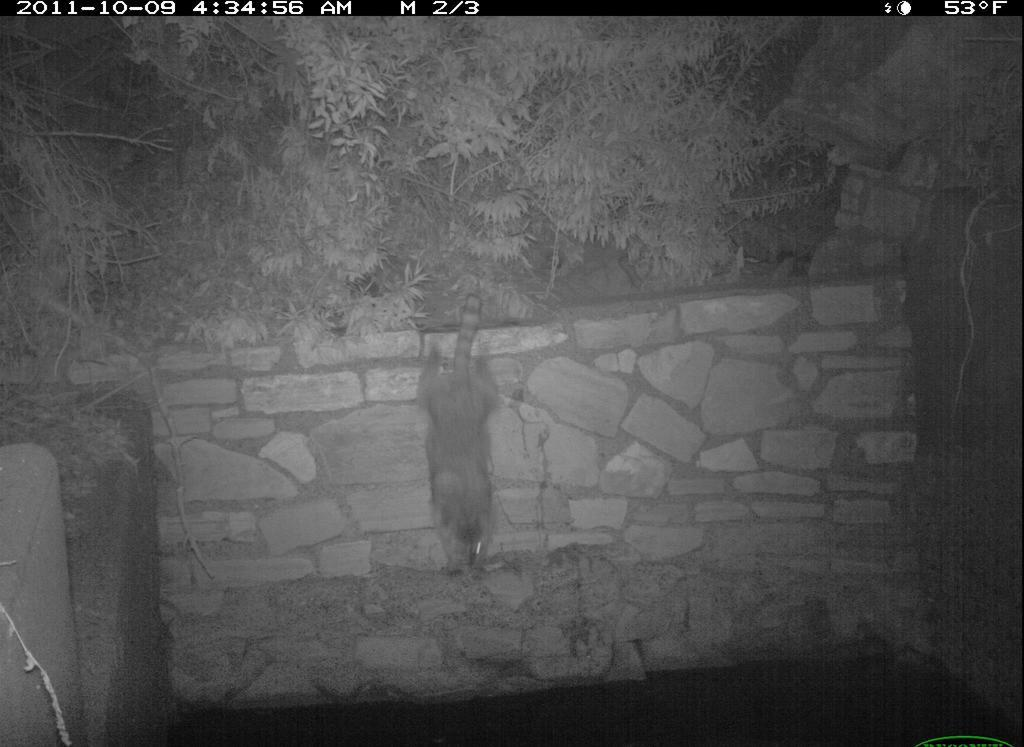raccoon: (399, 295, 525, 584)
